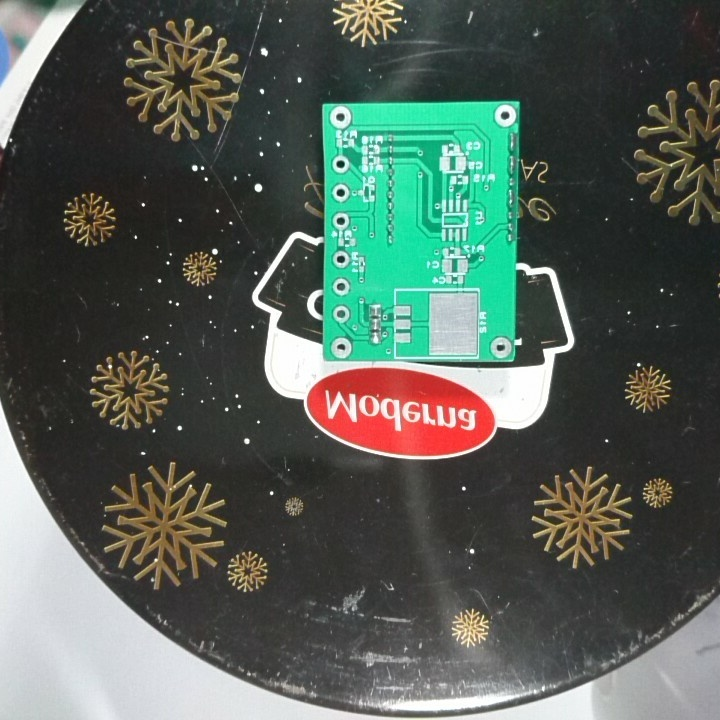F: (491, 103, 518, 129), (487, 335, 514, 360), (328, 335, 354, 360), (327, 106, 355, 129), (328, 249, 352, 272), (330, 302, 353, 326), (329, 153, 351, 175), (331, 275, 351, 299), (331, 180, 351, 203), (331, 209, 351, 232)
P: (505, 129, 519, 155), (505, 153, 518, 179), (505, 186, 517, 210)
